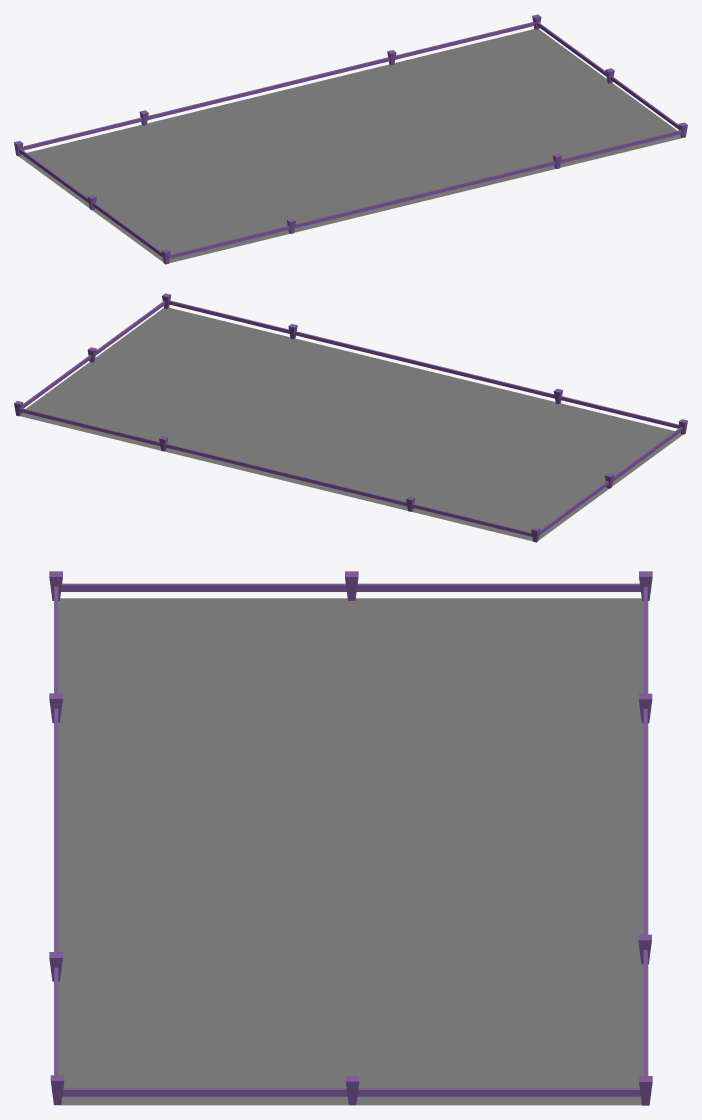
The model's file is Field.fbx.
3 views of the same model, one above another, from view 1: azimuth 30°, elevation 25°; view 2: azimuth 150°, elevation 25°; view 3: azimuth 270°, elevation 25° (orthographic). The views are drawn at different scales.
Parts seen in each view (by area): view 1: Fields; view 2: Fields; view 3: Fields.
Boxes of the visible parts, x1=… form: Fields: x1=14, y1=14, x2=687, y2=264; Fields: x1=14, y1=293, x2=687, y2=542; Fields: x1=49, y1=571, x2=652, y2=1105.
Size of the model in its own units: 2746 by 63.23 by 1371.
